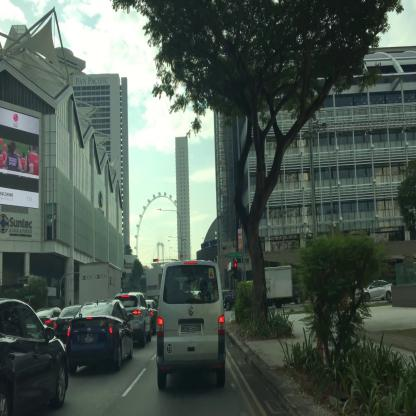red_traffic_light: (234, 262, 237, 278), (153, 259, 158, 261)
